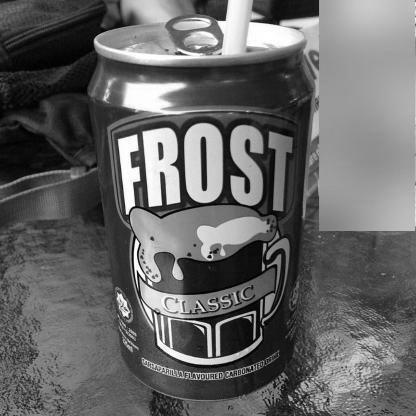alumunium_can: (88, 16, 317, 401)
